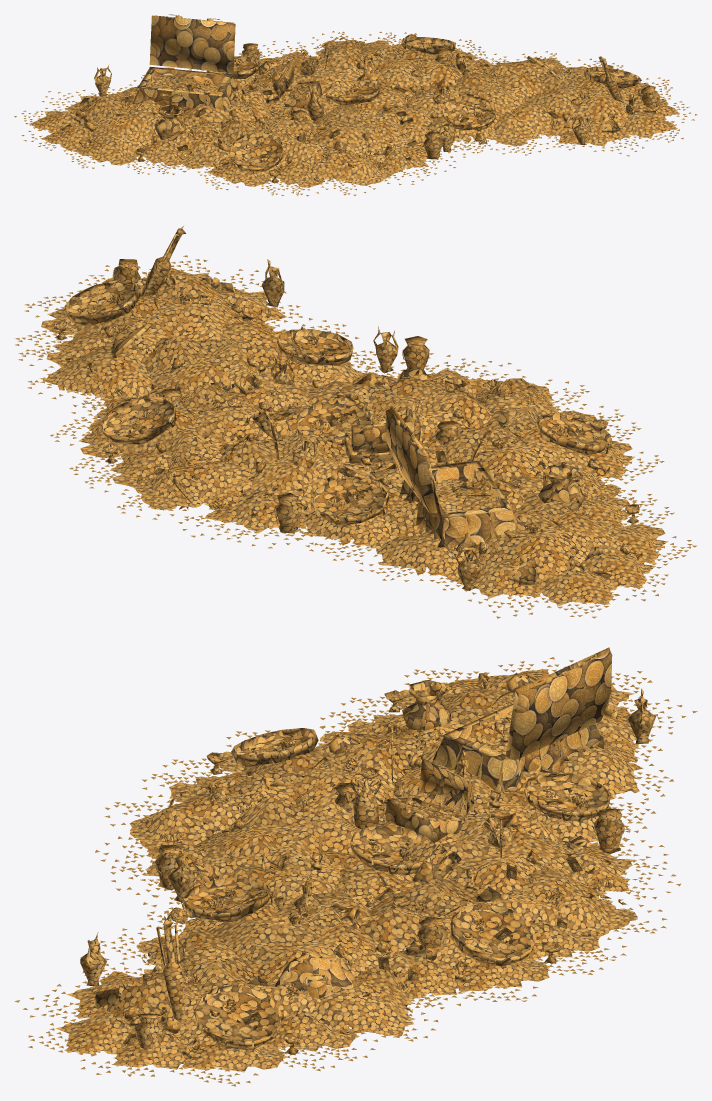
File: Ancient_Treasure.glb
3 renders of one model, top to bottom at view 1: azimuth 30°, elevation 25°; view 2: azimuth 150°, elevation 25°; view 3: azimuth 270°, elevation 25°, orthographic. The views are drawn at different scales.
Parts seen in each view (by area): view 1: Ancient Treasure; view 2: Ancient Treasure; view 3: Ancient Treasure.
Part boxes in pixels (<box>): Ancient Treasure: <box>14,14,697,196</box>; Ancient Treasure: <box>14,226,697,618</box>; Ancient Treasure: <box>14,647,697,1086</box>.
Bounding box in the file's own units: 4.78 × 0.7388 × 3.22.
1 material, 1 textured.
